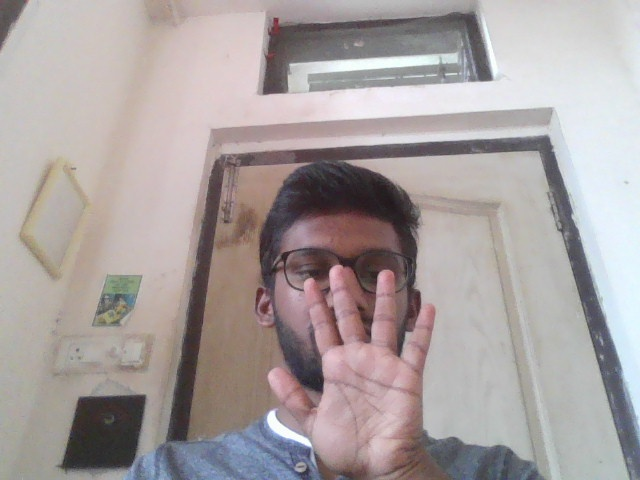Hello: (267, 263, 441, 480)
